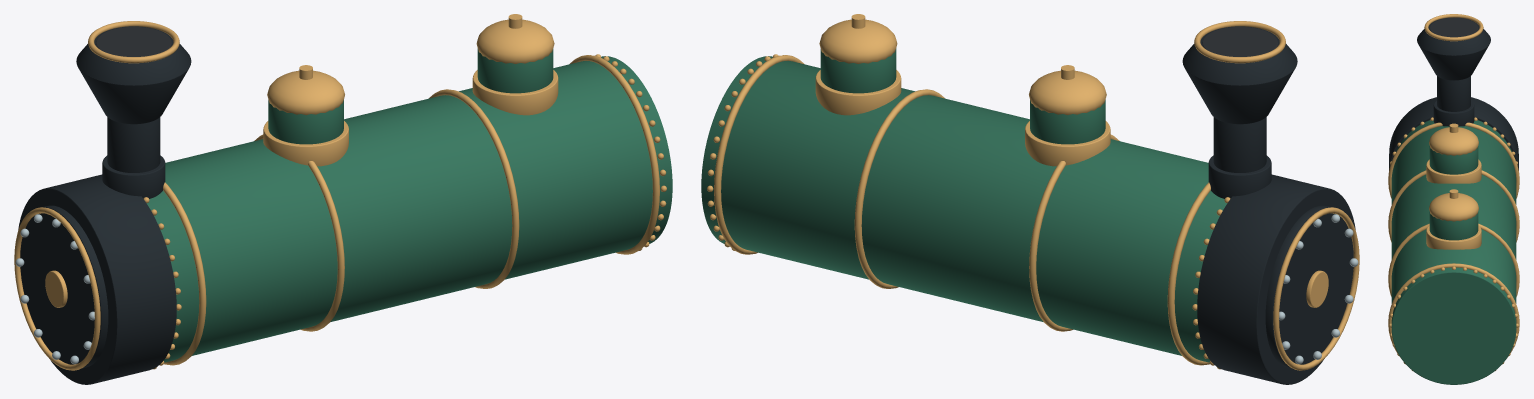
The model's file is boiler-and-smokebox.glb.
3 views of the same model, side by side, from view 1: azimuth 30°, elevation 25°; view 2: azimuth 150°, elevation 25°; view 3: azimuth 270°, elevation 25° (orthographic). The views are drawn at different scales.
Parts seen in each view (by area): view 1: Boiler barrel, Smokebox, Smokebox door, Flared spark arrestor, Arrestor crown, Dome cap.001, Dome cap, Chimney stem, Door brass rim, Steam dome.001, Steam dome, Boiler band.003 (+9 smaller); view 2: Boiler barrel, Smokebox, Smokebox door, Flared spark arrestor, Arrestor crown, Dome cap.001, Dome cap, Chimney stem, Door brass rim, Steam dome.001, Steam dome, Boiler band.003 (+9 smaller); view 3: Boiler barrel, Smokebox, Flared spark arrestor, Arrestor crown, Dome cap.001, Dome cap, Chimney stem, Steam dome, Steam dome.001, Boiler band.003, Boiler band, Stack dark opening (+6 smaller).
Part boxes in pixels (<box>): Boiler barrel: <box>146,56,672,362</box>; Smokebox: <box>18,174,176,384</box>; Smokebox door: <box>20,205,108,368</box>; Flared spark arrestor: <box>76,58,191,124</box>; Arrestor crown: <box>76,26,191,85</box>; Dome cap.001: <box>476,19,554,63</box>; Dome cap: <box>267,70,344,115</box>; Chimney stem: <box>107,117,160,172</box>; Door brass rim: <box>14,207,100,370</box>; Steam dome.001: <box>477,48,553,93</box>; Steam dome: <box>268,100,343,144</box>; Boiler band.003: <box>569,55,659,254</box>; Boiler barrel: <box>701,56,1227,362</box>; Smokebox: <box>1197,174,1355,384</box>; Smokebox door: <box>1265,205,1353,368</box>; Flared spark arrestor: <box>1182,58,1297,124</box>; Arrestor crown: <box>1182,26,1297,85</box>; Dome cap.001: <box>819,19,897,63</box>; Dome cap: <box>1029,70,1106,115</box>; Chimney stem: <box>1213,117,1266,172</box>; Door brass rim: <box>1273,207,1359,370</box>; Steam dome.001: <box>820,48,896,93</box>; Steam dome: <box>1030,100,1105,144</box>; Boiler band.003: <box>714,55,804,254</box>; Boiler barrel: <box>1391,120,1516,384</box>; Smokebox: <box>1389,97,1518,170</box>; Flared spark arrestor: <box>1418,44,1489,80</box>; Arrestor crown: <box>1417,17,1490,55</box>; Dome cap.001: <box>1429,193,1478,221</box>; Dome cap: <box>1429,127,1478,155</box>; Chimney stem: <box>1437,76,1470,111</box>; Steam dome: <box>1429,146,1478,174</box>; Steam dome.001: <box>1429,212,1478,240</box>; Boiler band.003: <box>1388,263,1519,357</box>; Boiler band: <box>1388,122,1519,198</box>; Stack dark opening: <box>1429,17,1478,37</box>.
Size of the model in its own units: 5.24 by 2.84 by 1.62.
